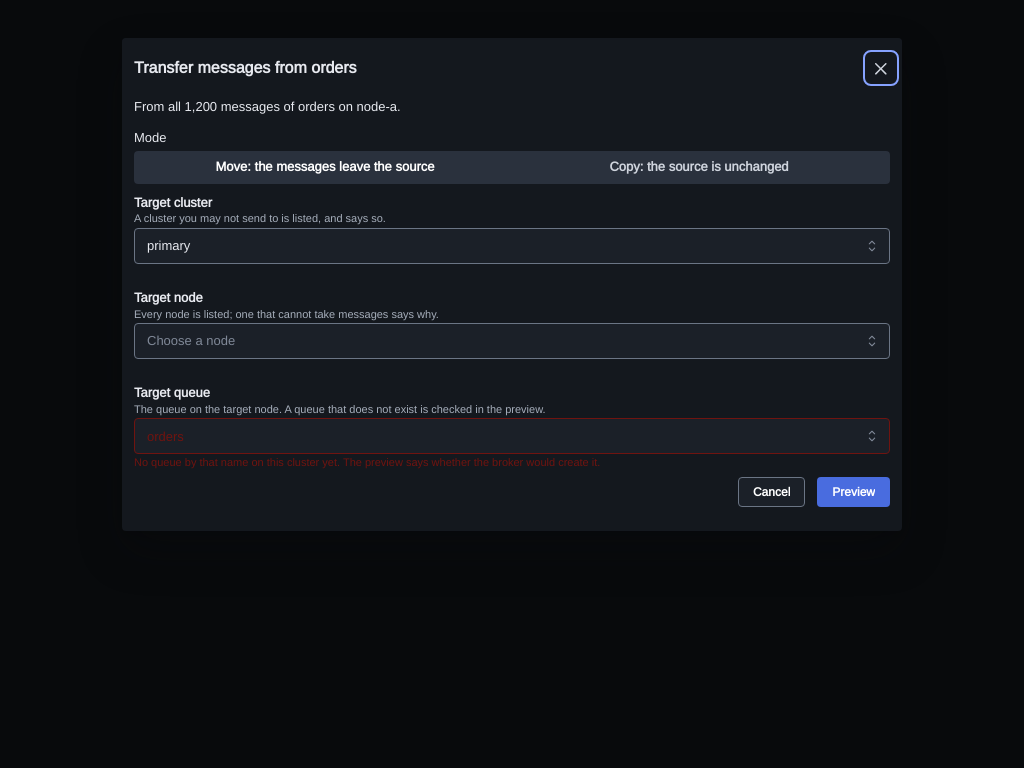
Scenario: TransferDialog destination › asks for a queue name when it is emptied, focuses it, and clears the complaint once one is typed
The image size is (1024, 768).
Click the dropdown labelled "Target node" at (512,341), box [134,323,890,359]
(page scrolled)
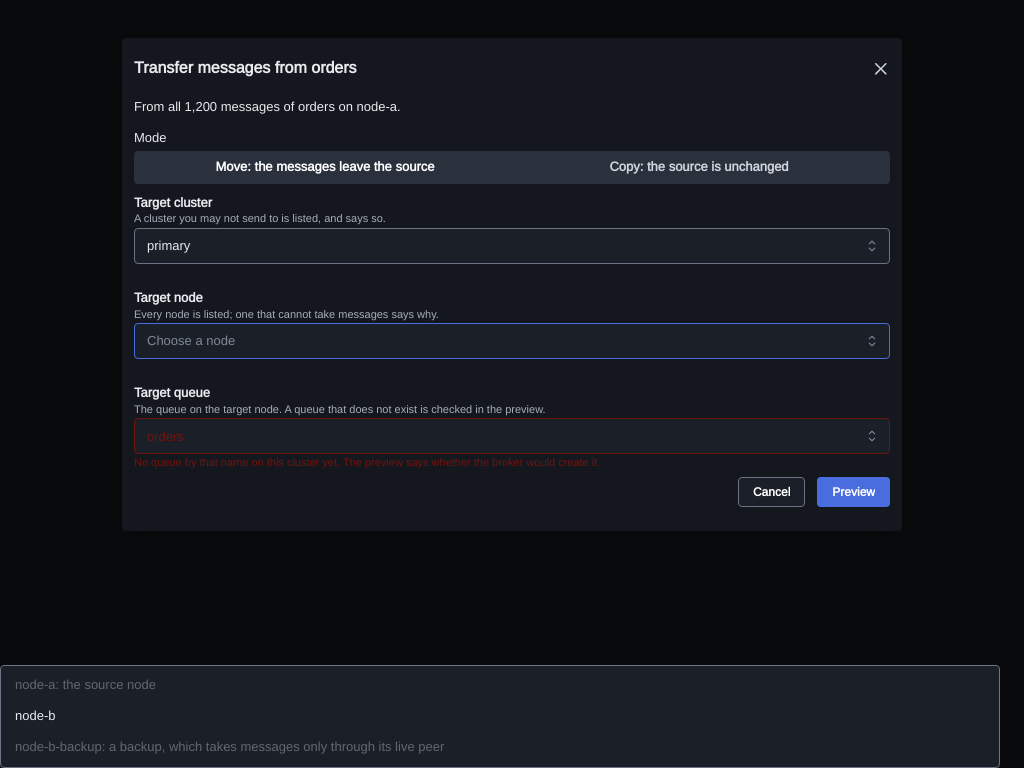
Click the option "node-b" at (35,715), box [15,707,56,724]
(page scrolled)
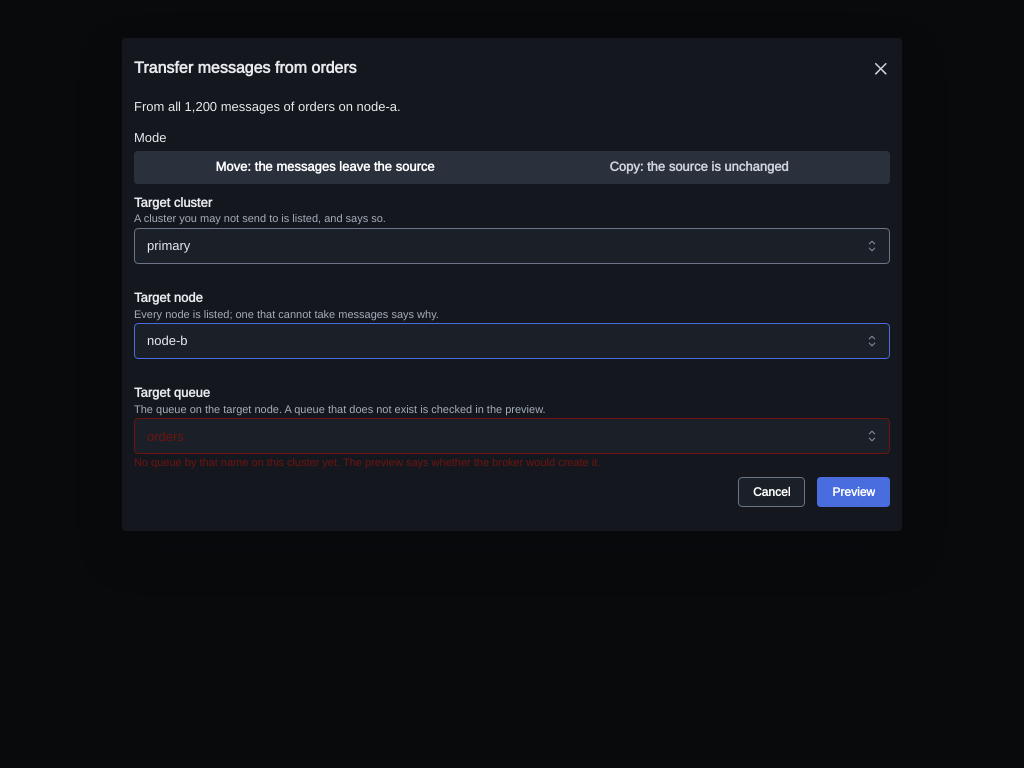
Clear the field labelled "Target queue" at (512,436), box [134,418,890,454]
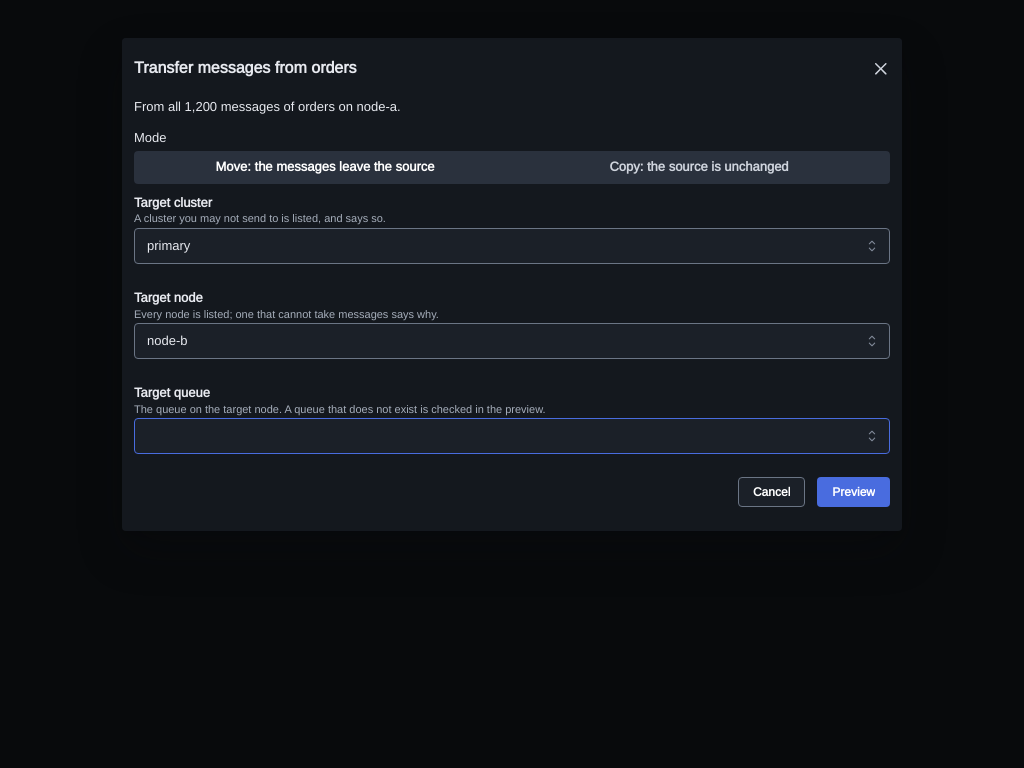
Click the button "Preview" at (854,492), box [817,477,890,507]
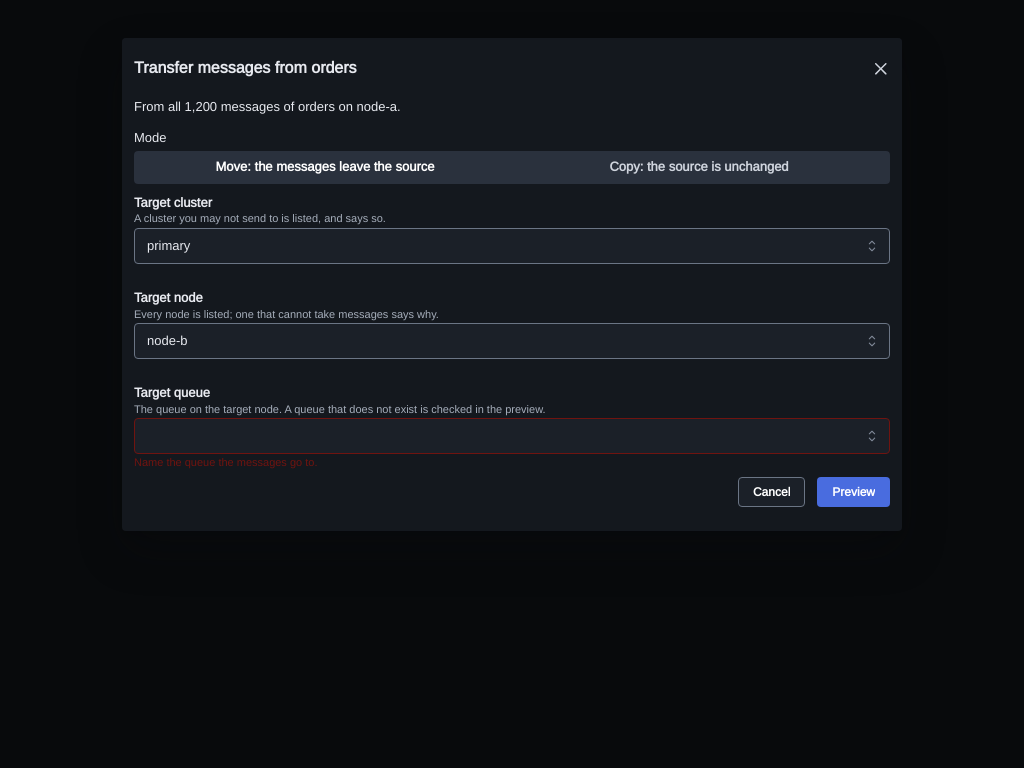
Expected: the text "Name the queue the messages go to." is shown, [134,455,318,469]
Type "x" into the field labelled "Target queue" at (512,436), box [134,418,890,454]
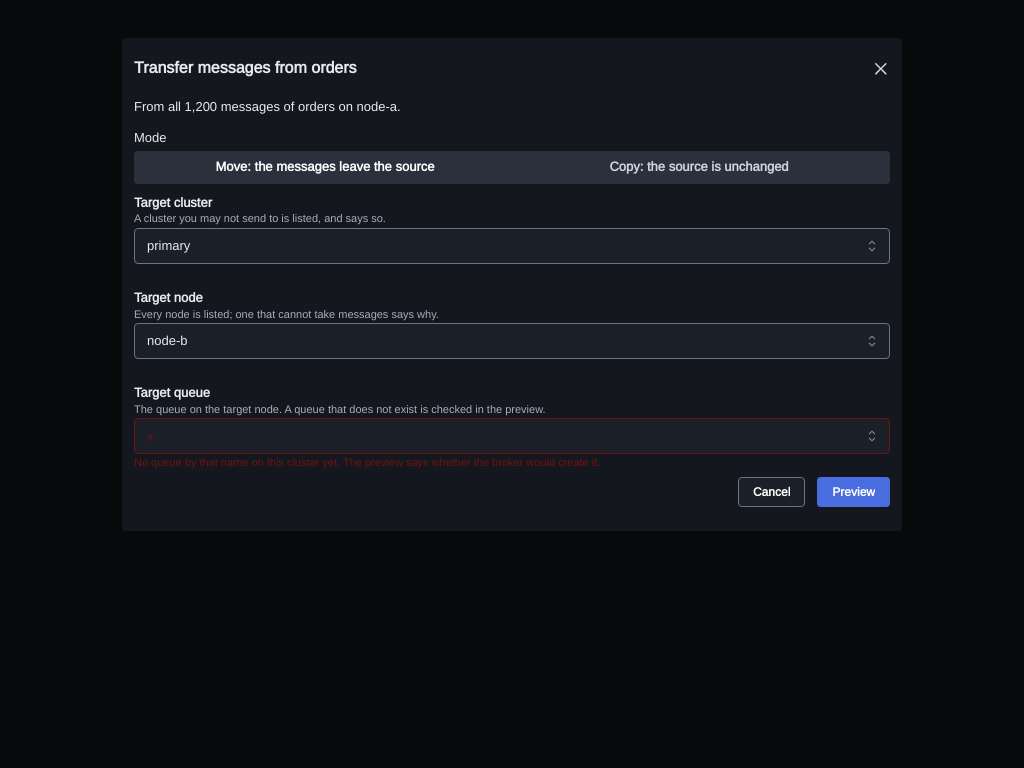
Expected: the text "Name the queue the messages go to." is gone
